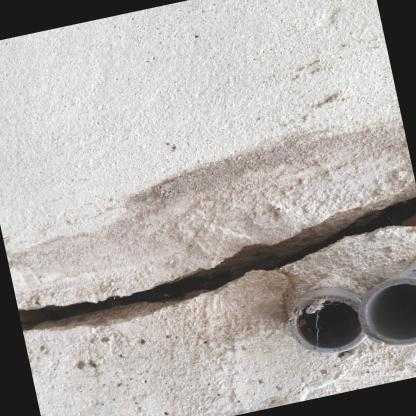crack: (17, 182, 416, 331)
